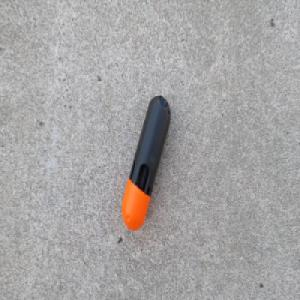PlasticPart: (120, 94, 171, 232)
